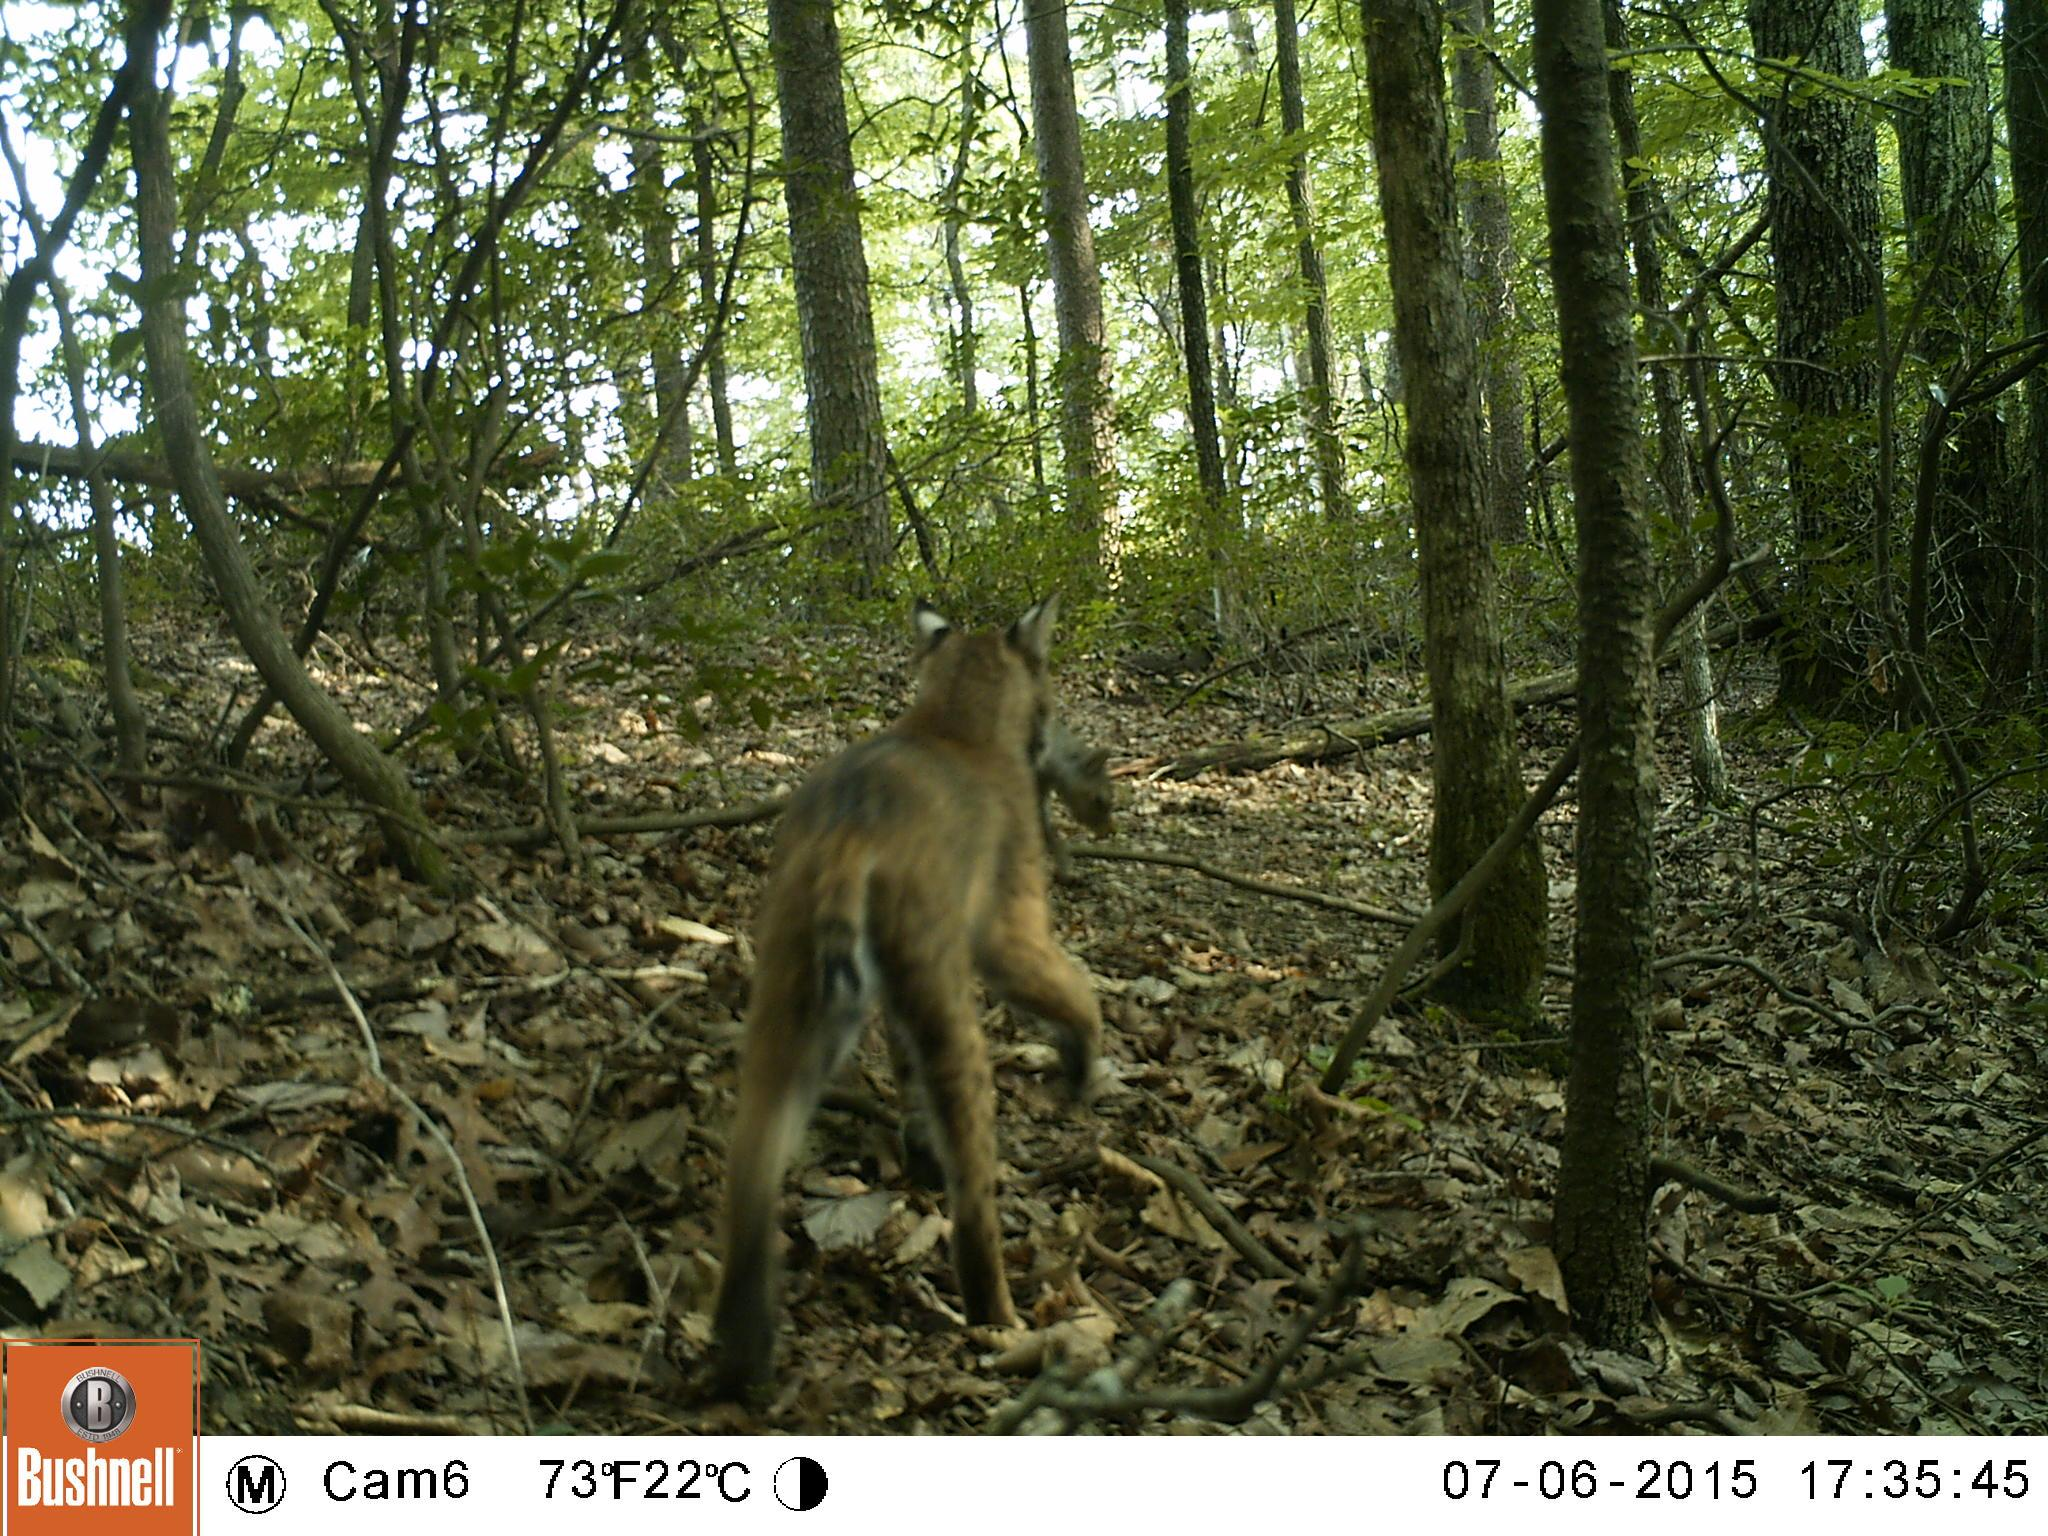Animal: (714, 592, 1105, 1396)
